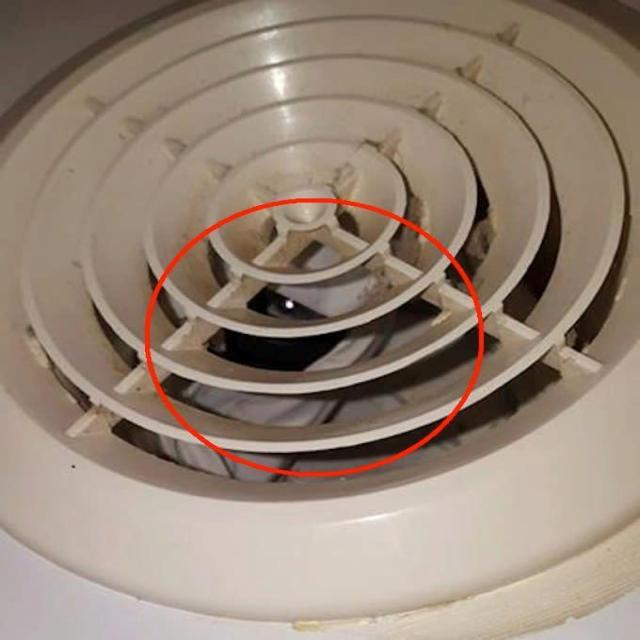hidden camera: (268, 278, 313, 319)
